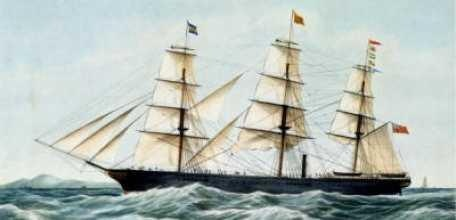fanchuan: (29, 8, 435, 193)
